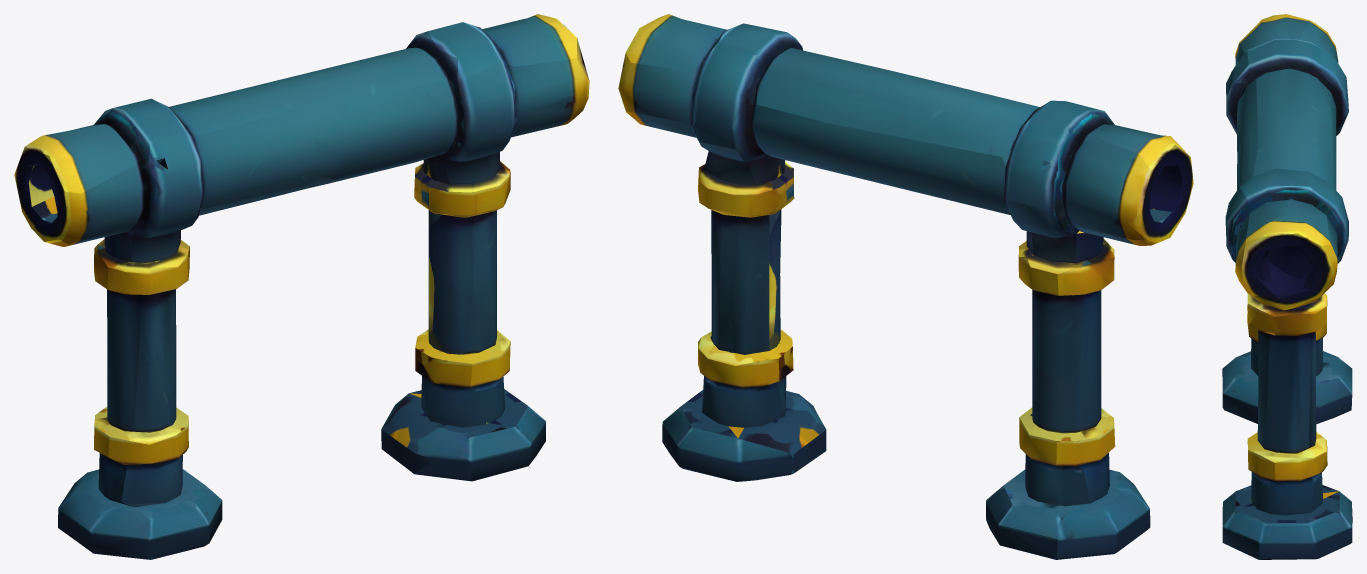
File: Obs4.fbx
3 views of the same model, side by side, from view 1: azimuth 30°, elevation 25°; view 2: azimuth 150°, elevation 25°; view 3: azimuth 270°, elevation 25° (orthographic). The views are drawn at different scales.
Parts seen in each view (by area): view 1: tmpesjy1eix.ply; view 2: tmpesjy1eix.ply; view 3: tmpesjy1eix.ply.
Boxes of the visible parts, x1,y1,x2,y2 form: tmpesjy1eix.ply: (14,14,589,559); tmpesjy1eix.ply: (618,14,1193,559); tmpesjy1eix.ply: (1222,14,1352,559).
Size of the model in its own units: 199 by 151 by 50.24.
1 material, 1 textured.
